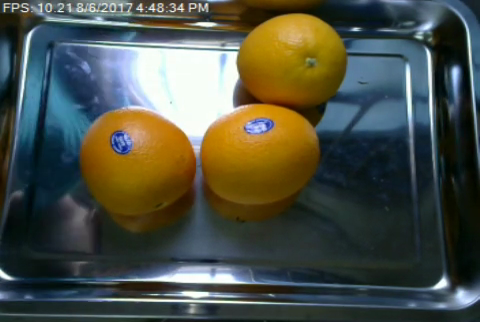Orange: (79, 105, 196, 215), (199, 104, 320, 204), (237, 12, 349, 106)
